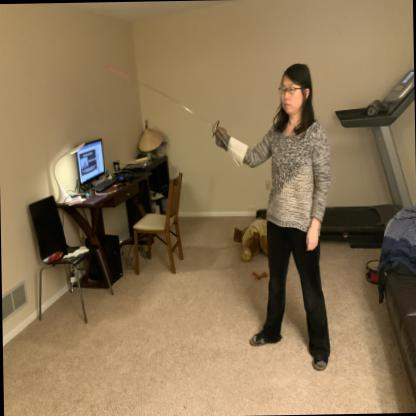foil-tip: (97, 56, 115, 80)
hand-and-foil: (90, 45, 251, 167)
